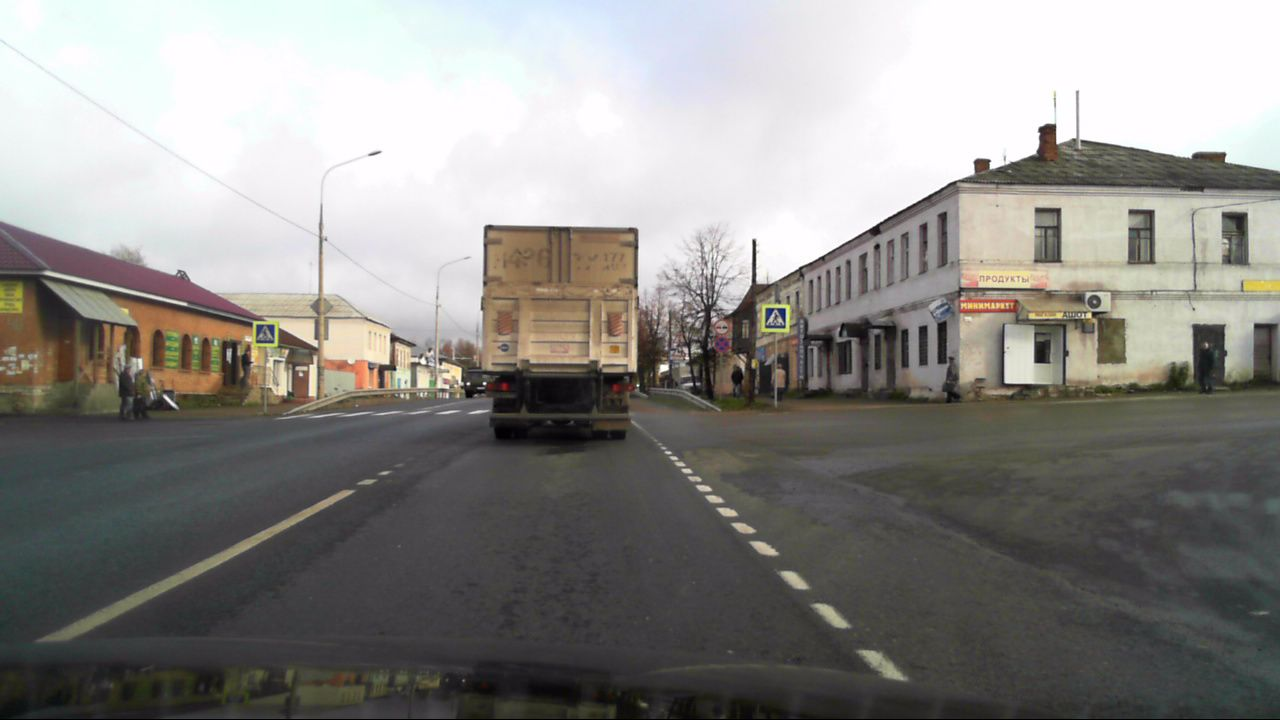No Parking: (712, 336, 728, 352)
